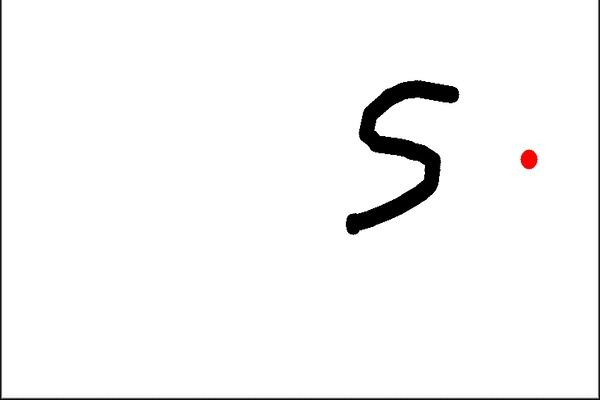S: (341, 75, 462, 240)
